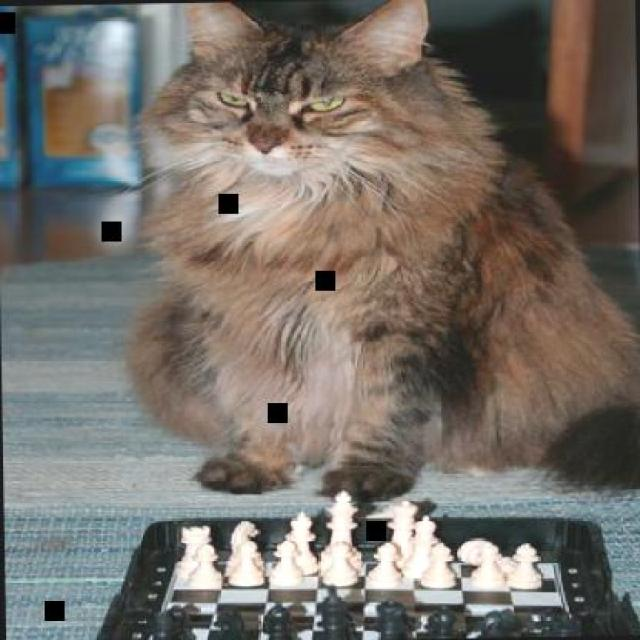cat: (127, 0, 638, 502)
